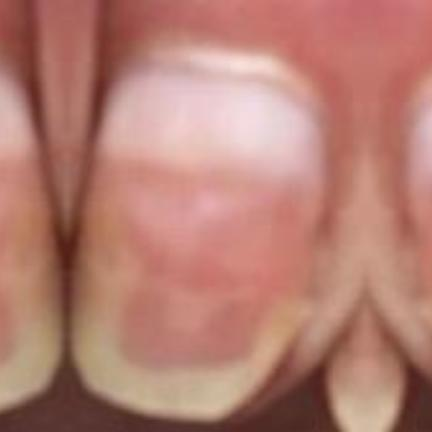Nail: (70, 57, 325, 422), (0, 60, 62, 409), (405, 82, 432, 330)
